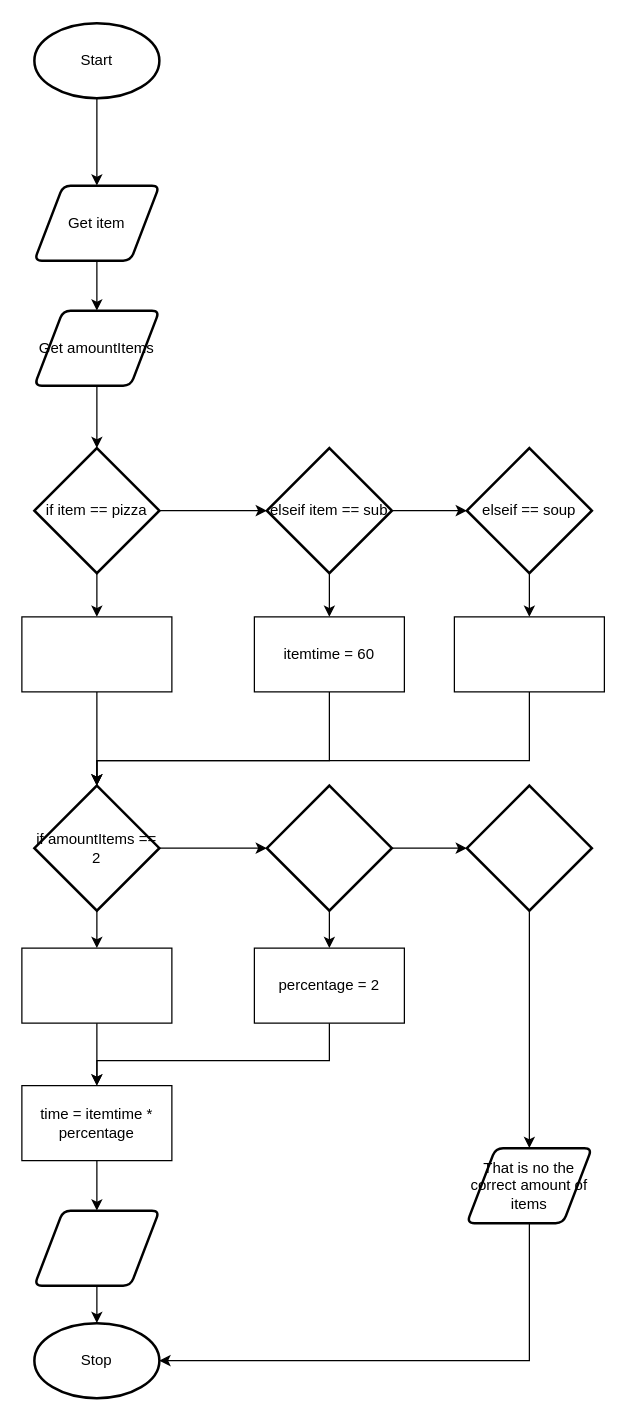
This 626x1420 diagram has some shape labels left out. Each missing label, with the centre of its shape:
"else" goes at pixel 528 847.
"elseif amountItems == 3" goes at pixel 328 847.
"itemtime = 105" goes at pixel 528 654.
"itemtime = 45" goes at pixel 96 654.
"percentage = 1.5" goes at pixel 96 985.
"Show time" goes at pixel 96 1247.
